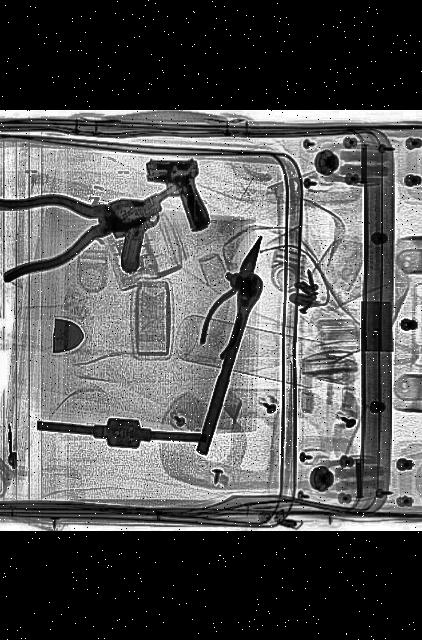Gun: (86, 180, 222, 274), (146, 153, 216, 237)
Pliers: (0, 167, 176, 282), (193, 232, 281, 360)
